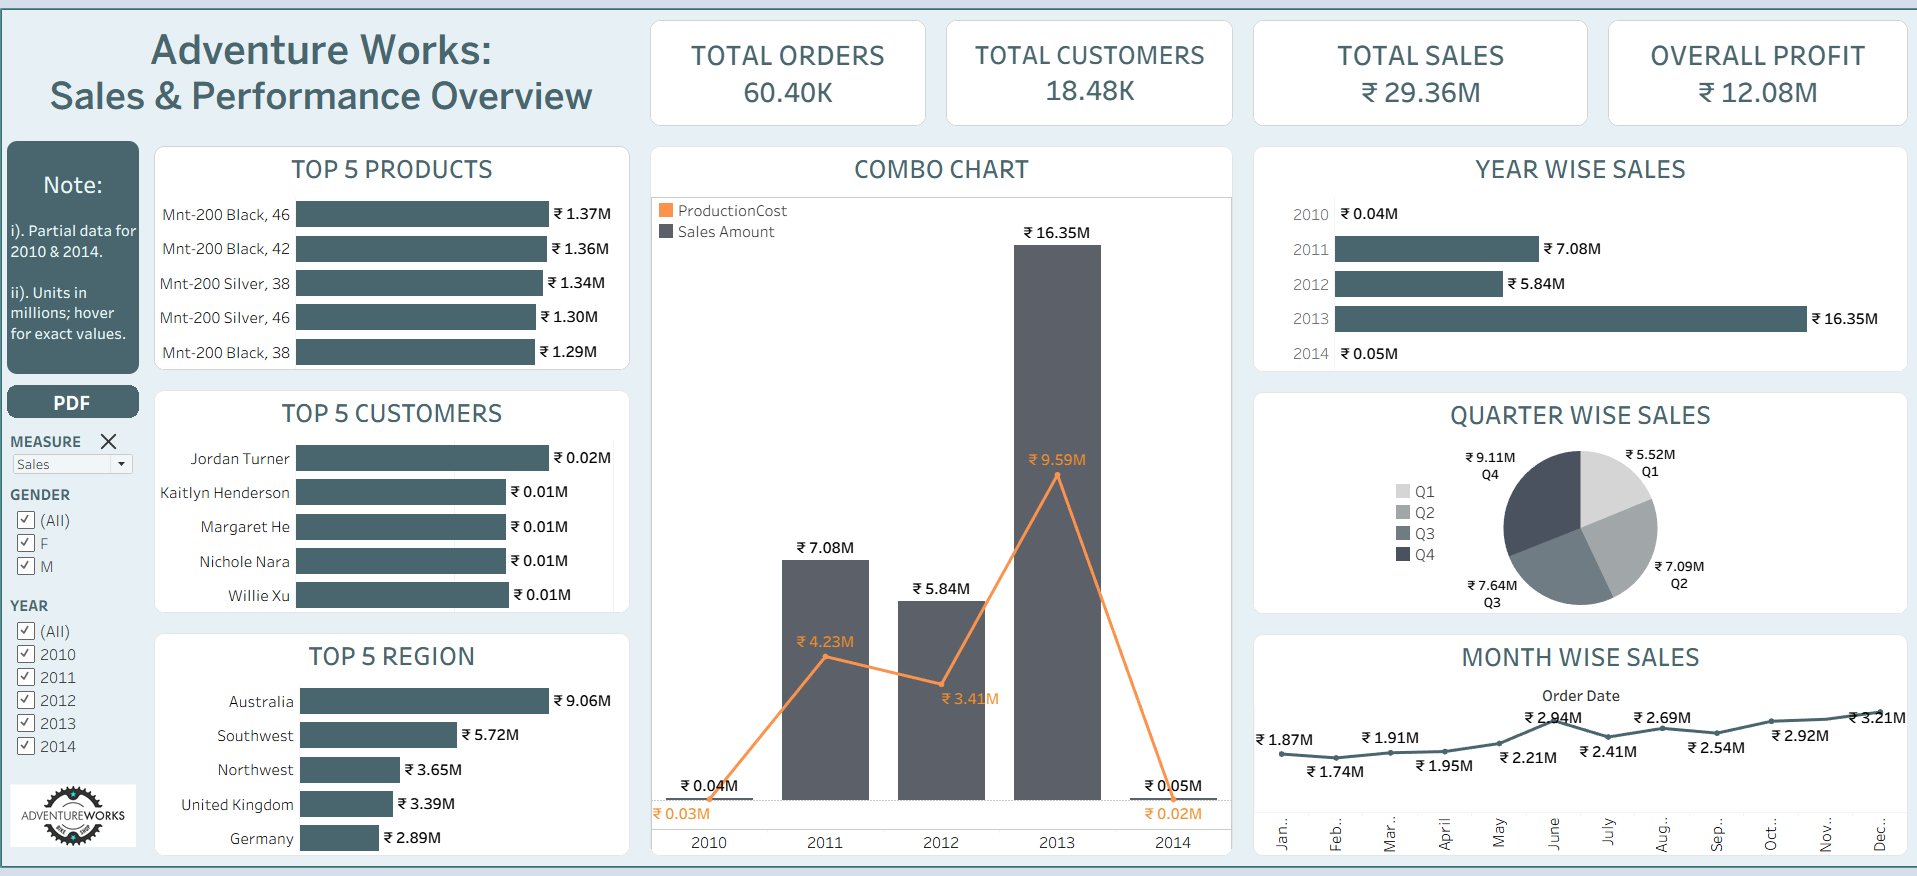

Layout of this report page (visuals, bound fields, positions):
{"tool":"tableau","page":{"name":"Adventure Works:Sales & Performance Overview","canvas":[1000,1000],"units":"permille","ordinal":0},"visuals":[{"type":"text","box":[1.2,2.4,332.4,147.1]},{"type":"worksheet","title":"12G) OrdersCardKPI","mark":"Automatic","box":[333.6,2.4,154.1,147.1]},{"type":"worksheet","title":"12F) CustomersCardKPI","mark":"Automatic","box":[487.6,2.4,159.8,147.1]},{"type":"worksheet","title":"12A) SalesCardKPI","mark":"Automatic","box":[647.4,2.4,184.6,146.6]},{"type":"worksheet","title":"12B) ProfitCardKPI","mark":"Automatic","box":[832,2.4,166.8,146.6]},{"type":"worksheet","title":"8) YearWiseSales","mark":"Bar","rows":["OrderDate"],"cols":["SalesAmount"],"box":[647.4,149,351.4,285.5]},{"type":"text","box":[1.2,149.4,73.8,282.6]},{"type":"worksheet","title":"12C) ProductKPI ","mark":"Automatic","rows":["EnglishProductName"],"cols":["Calculation_1652855919919122"],"box":[75,149.4,258.3,283.4]},{"type":"worksheet","title":"11) ComboChart","mark":"Automatic","rows":["SalesAmount","Calculation_1652855872274444"],"cols":["Calculation_1652855839657986"],"box":[333.3,149.4,314.1,848.2]},{"type":"legend","title":"11) ComboChart","param":"[federated.0d5m3ud0twc1vp149d08y1rib0tz].[:Measure Names]","box":[341.6,223.3,84.5,75.2]},{"type":"dashboard-object","box":[1.2,432,73.8,50.6]},{"type":"worksheet","title":"12D) CustomerKPI","mark":"Automatic","rows":["Calculation_1652855835549697"],"cols":["Calculation_1652855919919122"],"box":[75,432.8,258.3,282.2]},{"type":"worksheet","title":"10) QuarterWiseSales","mark":"Pie","box":[647.4,434.5,351.4,281.3]},{"type":"parameter","param":"[Parameters].[Parameter 1]","box":[3.6,487.4,69,62.3]},{"type":"dashboard-object","box":[50.7,490,12.1,28.2]},{"type":"filter","title":"10) QuarterWiseSales","param":"[federated.0d5m3ud0twc1vp149d08y1rib0tz].[none:Gender:nk]","box":[3.6,549.6,69,130.4]},{"type":"legend","title":"10) QuarterWiseSales","param":"[federated.0d5m3ud0twc1vp149d08y1rib0tz].[qr:Calculation_1652855839657986:ok]","box":[725.6,549.9,25.9,98.7]},{"type":"filter","title":"8) YearWiseSales","param":"[federated.0d5m3ud0twc1vp149d08y1rib0tz].[yr:OrderDate:ok]","box":[3.6,680.1,69,205.9]},{"type":"worksheet","title":"12E) RegionKPI","mark":"Automatic","rows":["SalesTerritoryRegion"],"cols":["Calculation_1652855919919122"],"box":[75,715,258.3,282.6]},{"type":"worksheet","title":"9) MonthWiseSales","mark":"Automatic","rows":["SalesAmount"],"cols":["OrderDate"],"box":[647.4,715.9,351.4,281.8]},{"type":"image","param":"Image/adventureworks.jpeg","box":[3.6,886,69,106.9]}]}

Visuals, with their boxes on the dashboard's canvas, which has no fixed pixel size, in thousandths of its width and height (x1, y1, x2, y2). These are canvas units, not pixel positions in the 1917x876 screenshot, which may show the page scaled, cropped or inside an application window:
text: x1=1, y1=2, x2=334, y2=150
"12G) OrdersCardKPI" worksheet: x1=334, y1=2, x2=488, y2=150
"12F) CustomersCardKPI" worksheet: x1=488, y1=2, x2=647, y2=150
"12A) SalesCardKPI" worksheet: x1=647, y1=2, x2=832, y2=149
"12B) ProfitCardKPI" worksheet: x1=832, y1=2, x2=999, y2=149
"8) YearWiseSales" worksheet (Bar marks): x1=647, y1=149, x2=999, y2=434
text: x1=1, y1=149, x2=75, y2=432
"12C) ProductKPI " worksheet: x1=75, y1=149, x2=333, y2=433
"11) ComboChart" worksheet: x1=333, y1=149, x2=647, y2=998
"11) ComboChart" legend: x1=342, y1=223, x2=426, y2=298
dashboard-object: x1=1, y1=432, x2=75, y2=483
"12D) CustomerKPI" worksheet: x1=75, y1=433, x2=333, y2=715
"10) QuarterWiseSales" worksheet (Pie marks): x1=647, y1=434, x2=999, y2=716
parameter: x1=4, y1=487, x2=73, y2=550
dashboard-object: x1=51, y1=490, x2=63, y2=518
"10) QuarterWiseSales" filter: x1=4, y1=550, x2=73, y2=680
"10) QuarterWiseSales" legend: x1=726, y1=550, x2=752, y2=649
"8) YearWiseSales" filter: x1=4, y1=680, x2=73, y2=886
"12E) RegionKPI" worksheet: x1=75, y1=715, x2=333, y2=998
"9) MonthWiseSales" worksheet: x1=647, y1=716, x2=999, y2=998
image: x1=4, y1=886, x2=73, y2=993
